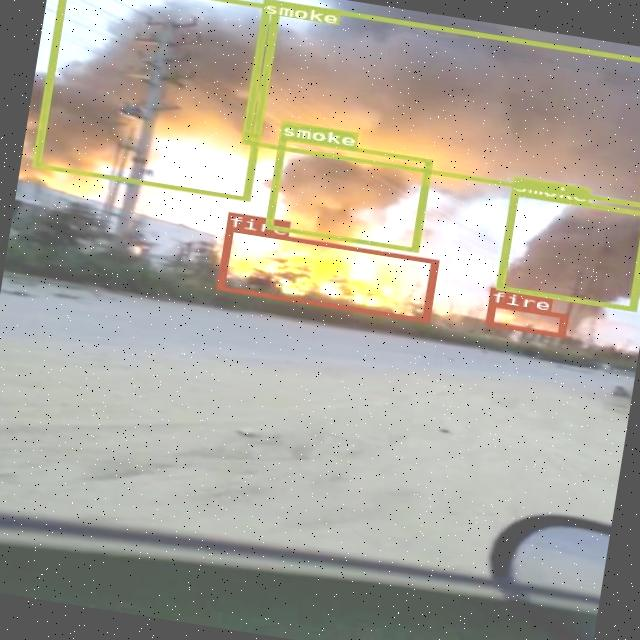fire: (215, 226, 438, 322), (484, 300, 567, 336)
smoke: (241, 0, 640, 208), (31, 0, 279, 201), (264, 134, 431, 252), (494, 190, 640, 311)
